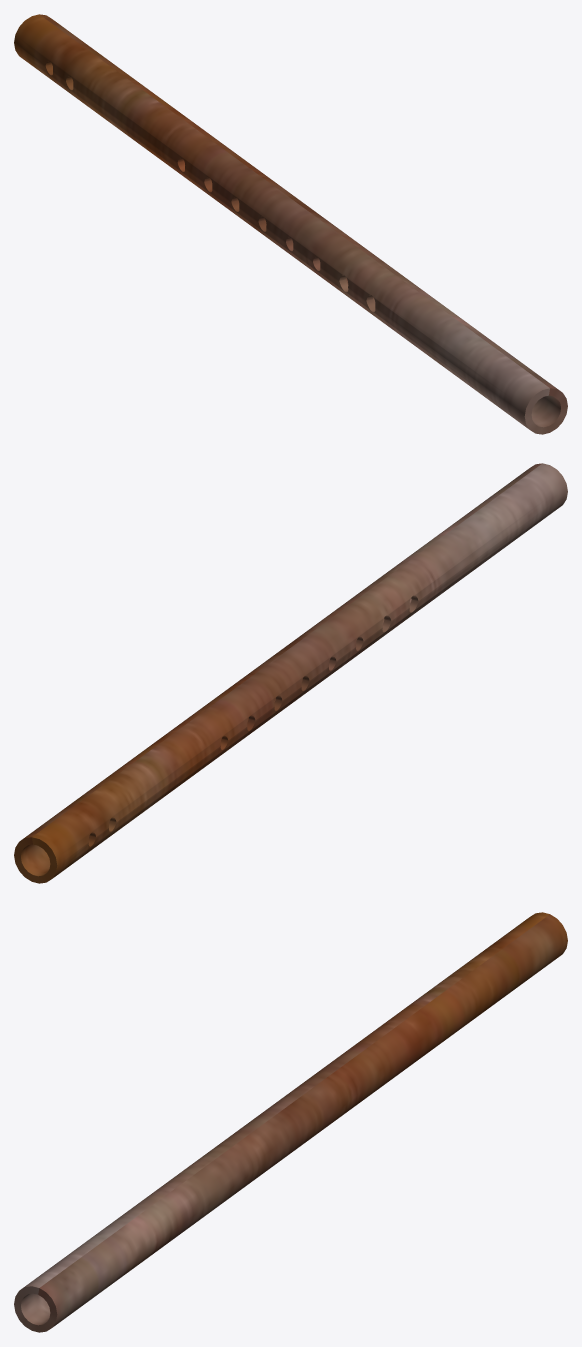
The model's file is 汉代骨笛.FBX.
3 renders of one model, top to bottom at view 1: azimuth 30°, elevation 25°; view 2: azimuth 150°, elevation 25°; view 3: azimuth 330°, elevation 25°, orthographic.
Visible parts, largest first — view 1: Cylinder001; view 2: Cylinder001; view 3: Cylinder001.
Part boxes in pixels (x1,y1,x2,y2): Cylinder001: [14, 14, 567, 434]; Cylinder001: [14, 463, 567, 883]; Cylinder001: [14, 912, 567, 1332].
Size of the model in its own units: 8.34 by 8.21 by 171.
1 material, 1 textured.
